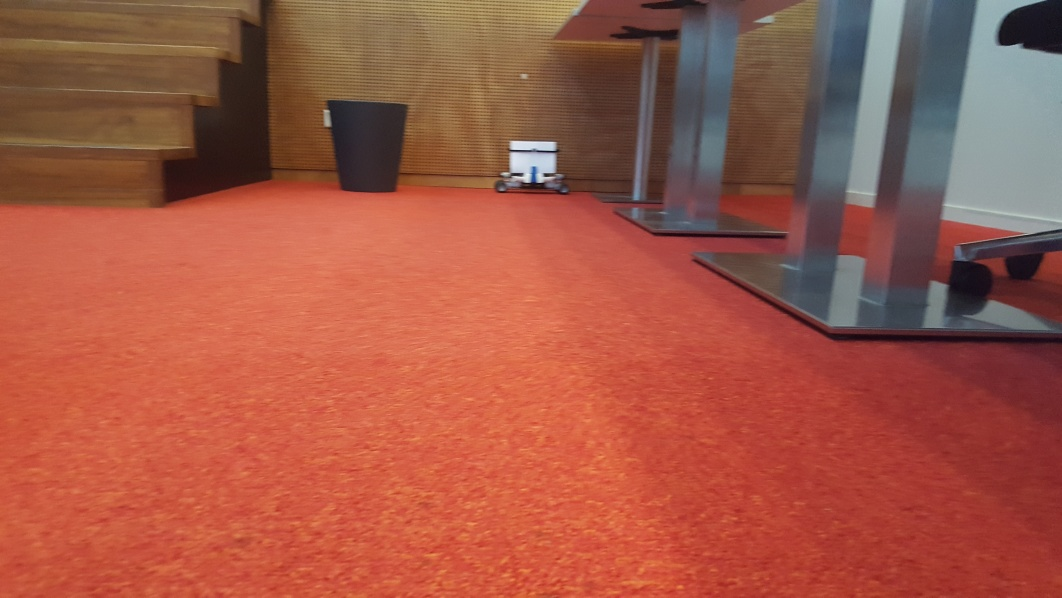car: (494, 134, 572, 200)
